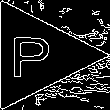P_N: (16, 30, 58, 80)
